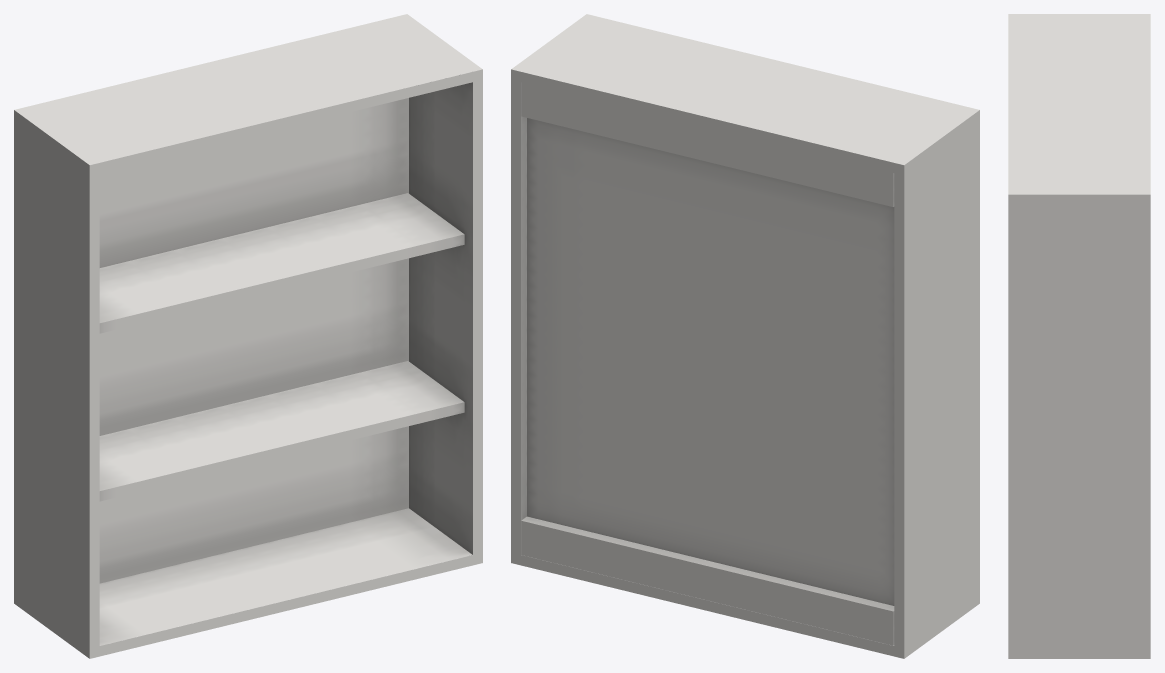
File: vanity-wall-2-door-doors-off.glb
The picture shows the model from 3 angles, left to right: view 1: azimuth 30°, elevation 25°; view 2: azimuth 150°, elevation 25°; view 3: azimuth 270°, elevation 25°; orthographic projection. The views are drawn at different scales.
Visible parts, largest first — view 1: part_0; view 2: part_0; view 3: part_0.
Part boxes in pixels (x1,y1,x2,y2): part_0: (14, 14, 482, 658); part_0: (511, 14, 979, 658); part_0: (1008, 14, 1150, 658).
Bounding box in the file's own units: 0.762 × 0.9144 × 0.254.
1 material, 1 textured.
